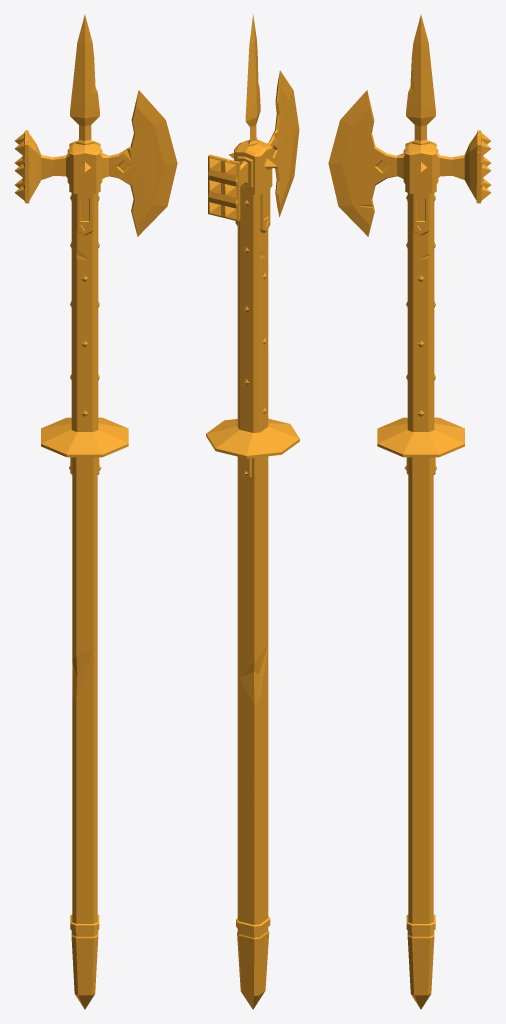
File: SM_Polearm_Axe_B.fbx
The picture shows the model from 3 angles, left to right: view 1: azimuth 90°, elevation 25°; view 2: azimuth 150°, elevation 25°; view 3: azimuth 270°, elevation 25°; orthographic projection.
Parts seen in each view (by area): view 1: polearm-axe-b; view 2: polearm-axe-b; view 3: polearm-axe-b.
Part boxes in pixels (x1=…): polearm-axe-b: x1=14, y1=14, x2=177, y2=1009; polearm-axe-b: x1=206, y1=14, x2=299, y2=1009; polearm-axe-b: x1=328, y1=14, x2=491, y2=1009.
Bounding box in the file's own units: 0.148 × 1.86 × 0.2767.
